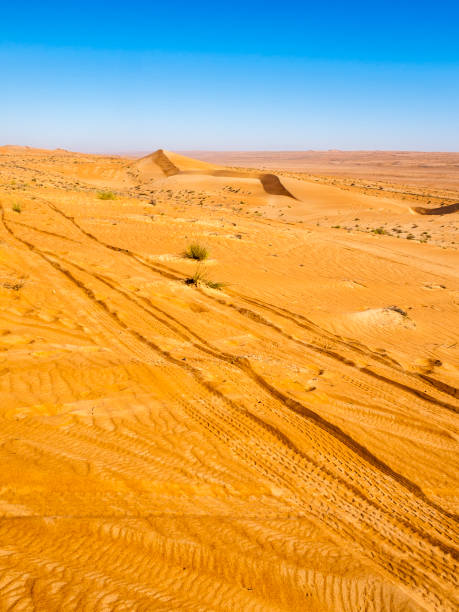vehicle_track: (5, 222, 455, 556), (187, 332, 456, 517), (196, 337, 456, 517), (3, 219, 239, 410), (201, 290, 458, 413), (232, 291, 458, 397)
